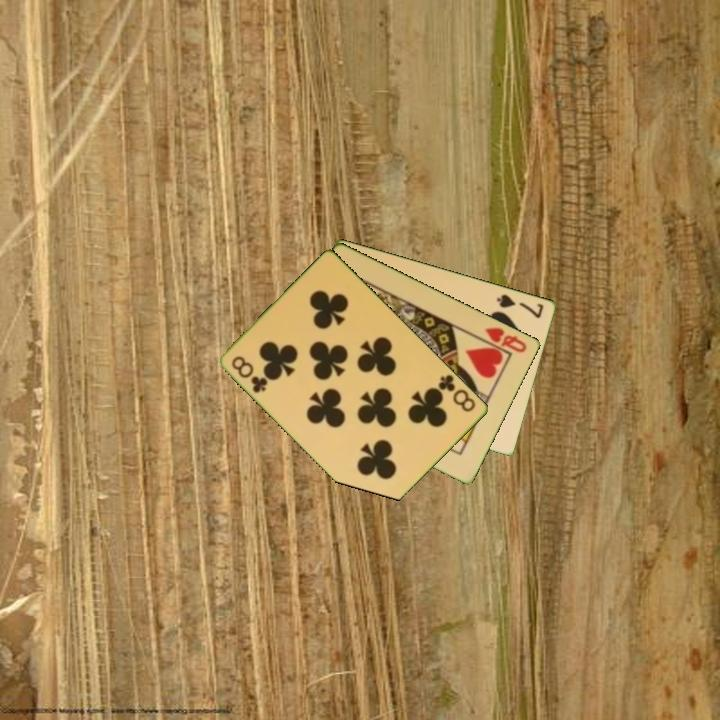7s: (493, 290, 547, 321)
8c: (433, 371, 479, 415), (228, 353, 271, 396)
Qh: (482, 323, 530, 356)
